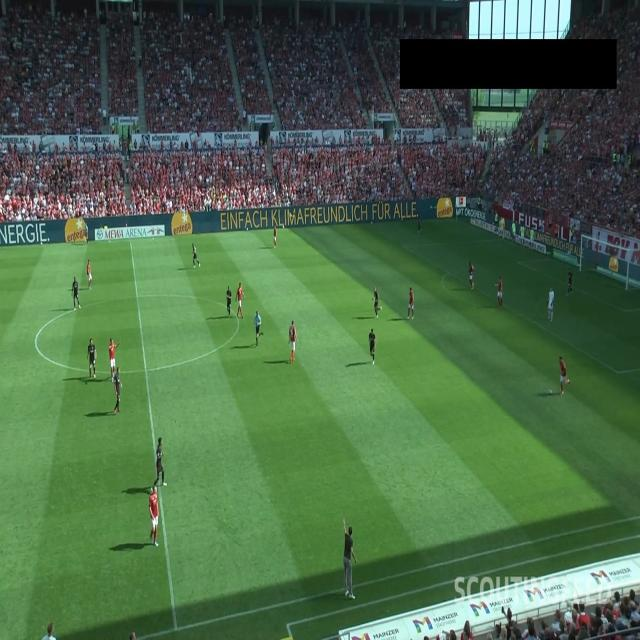ball: (548, 388, 552, 396)
